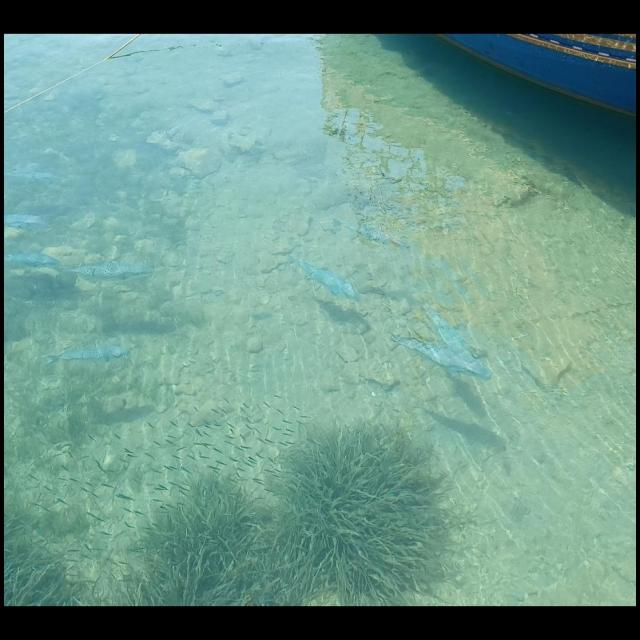Balon Baligi: (389, 332, 492, 380), (288, 254, 355, 298), (422, 301, 472, 356), (43, 346, 129, 365), (332, 218, 387, 245), (60, 263, 155, 278), (5, 252, 60, 268), (4, 168, 58, 183), (4, 214, 45, 230)
